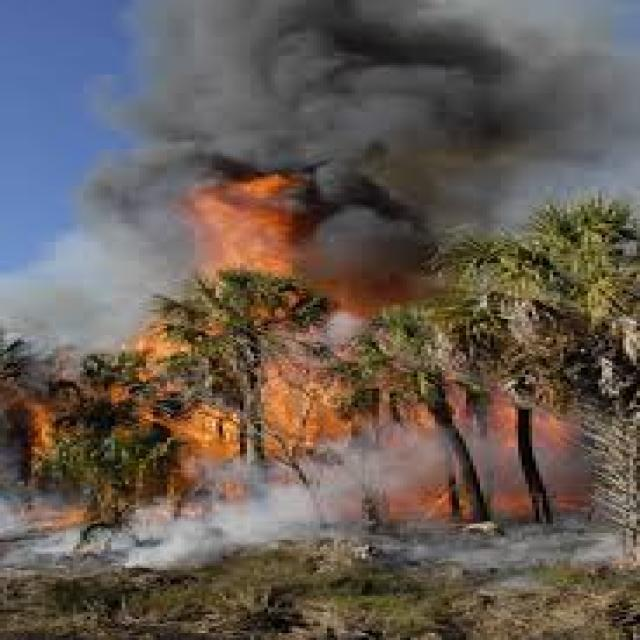Fire: (258, 372, 373, 456), (199, 193, 280, 274), (174, 407, 258, 450)
Smoke: (137, 0, 604, 173), (462, 439, 614, 582), (166, 467, 439, 542), (54, 186, 182, 320), (303, 185, 463, 272), (8, 506, 205, 574)
